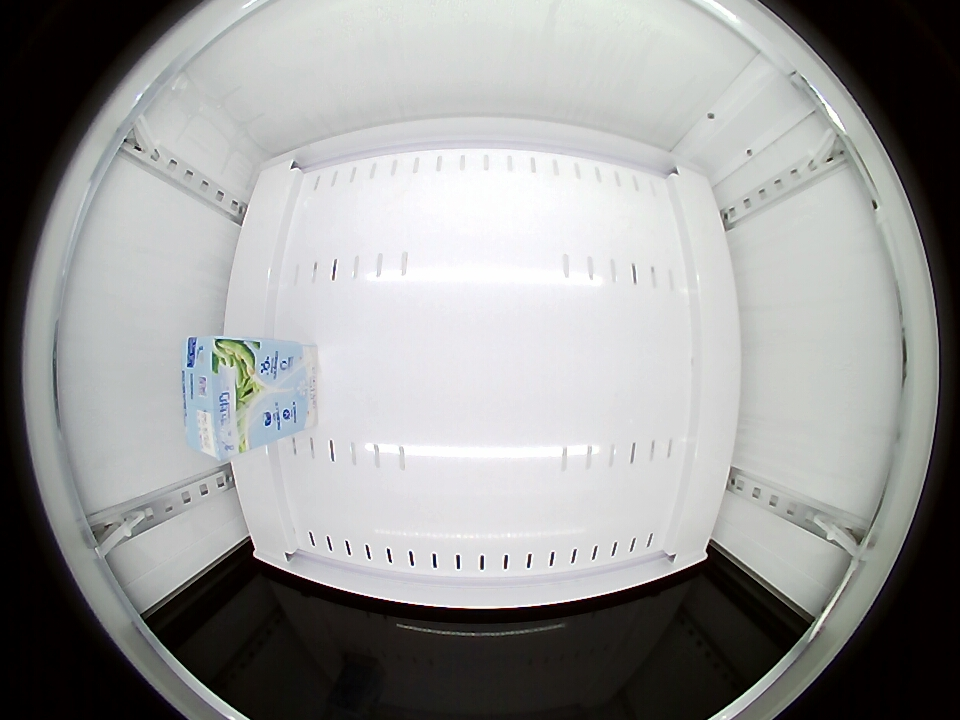weitanaiditang: (182, 336, 264, 461)
